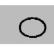no answer: (15, 13, 49, 42)
